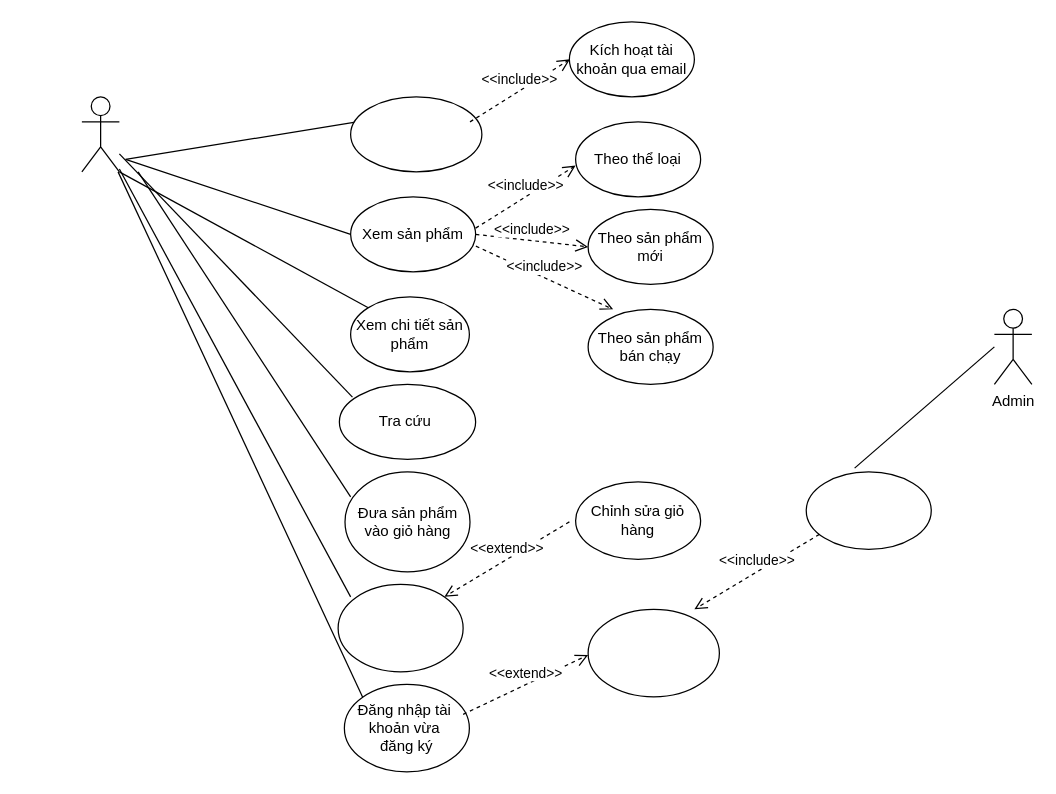
Some shapes in this 1056 by 794 pixel diagram are drawn without their labels. Here are the shapes that lost their labels. From the top down, the box of each, then its label:
(81, 96, 119, 172): Khach hang vieng tham
(349, 96, 482, 172): Đăng ký
(805, 471, 931, 549): Quản lí user
(337, 583, 463, 672): Xem giỏ hàng
(587, 608, 719, 697): Kích hoạt tài khoản cho khách đăng nhập
